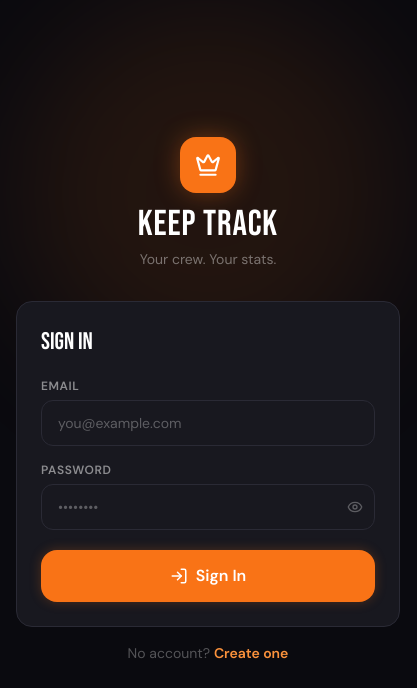
Scenario: LoginPage › shows MFA step when user has verified TOTP factor
In the field with placeholder "you@example.com": (208, 423) [41, 400, 375, 446], type "a@a.com"
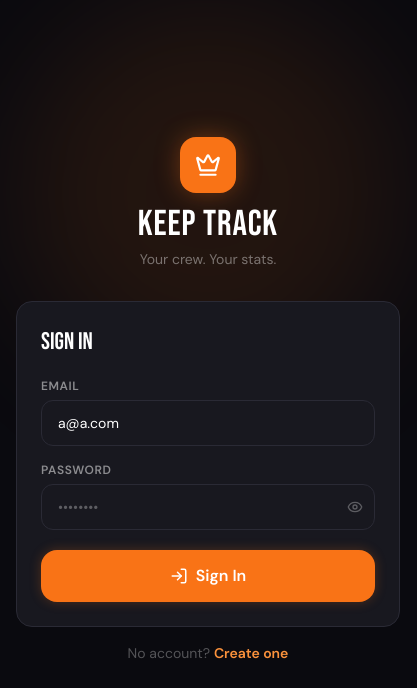
In the password field with placeholder "••••••••": (208, 507) [41, 484, 375, 530], type "password1"
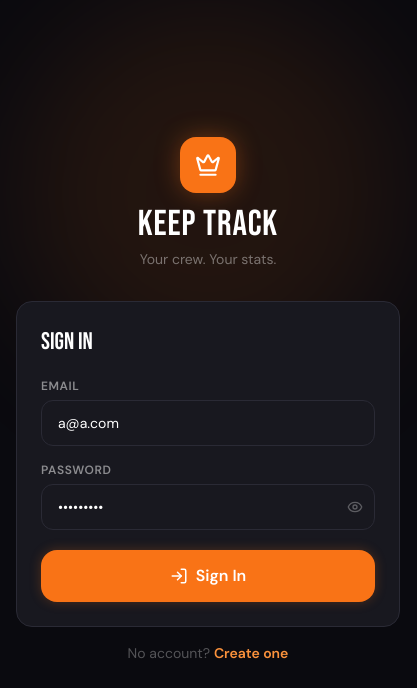
Click the button "Sign In": (208, 576) [41, 550, 375, 602]
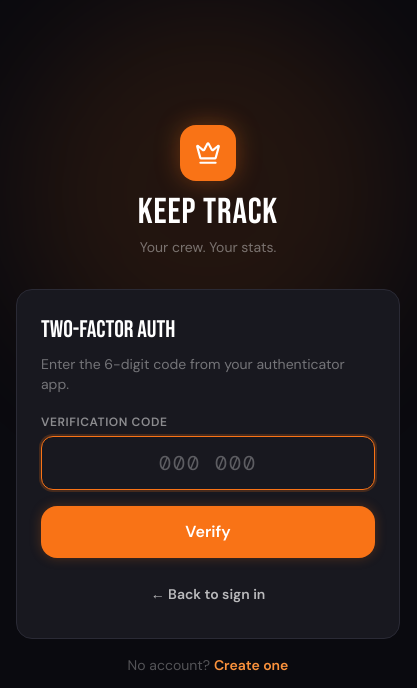
Expected: the heading "Two-Factor Auth" is shown, [41, 315, 175, 344]
